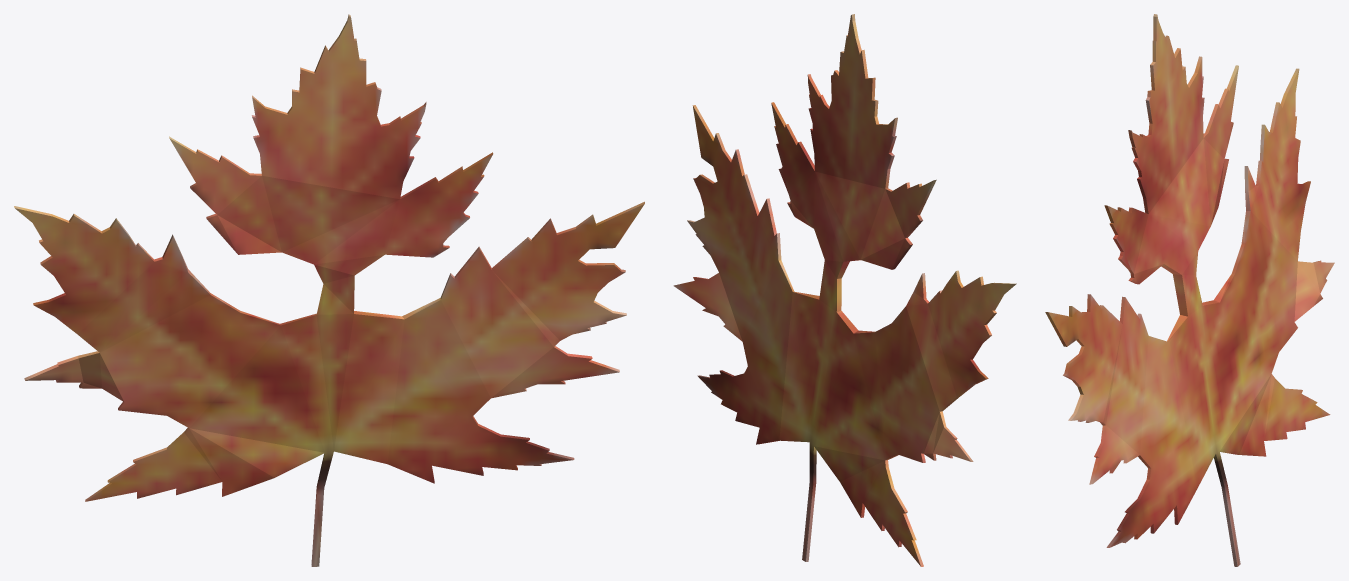
Rendered from MAPLE LEAF.fbx.
The picture shows the model from 3 angles, left to right: view 1: azimuth 30°, elevation 25°; view 2: azimuth 150°, elevation 25°; view 3: azimuth 270°, elevation 25°; orthographic projection. The views are drawn at different scales.
Parts seen in each view (by area): view 1: MAPLE_LEAF; view 2: MAPLE_LEAF; view 3: MAPLE_LEAF.
Boxes of the visible parts, bbox=[...] form: MAPLE_LEAF: bbox=[14, 14, 644, 566]; MAPLE_LEAF: bbox=[673, 14, 1016, 566]; MAPLE_LEAF: bbox=[1045, 14, 1334, 566].
Bounding box in the file's own units: 39.15 × 44.04 × 21.15.
